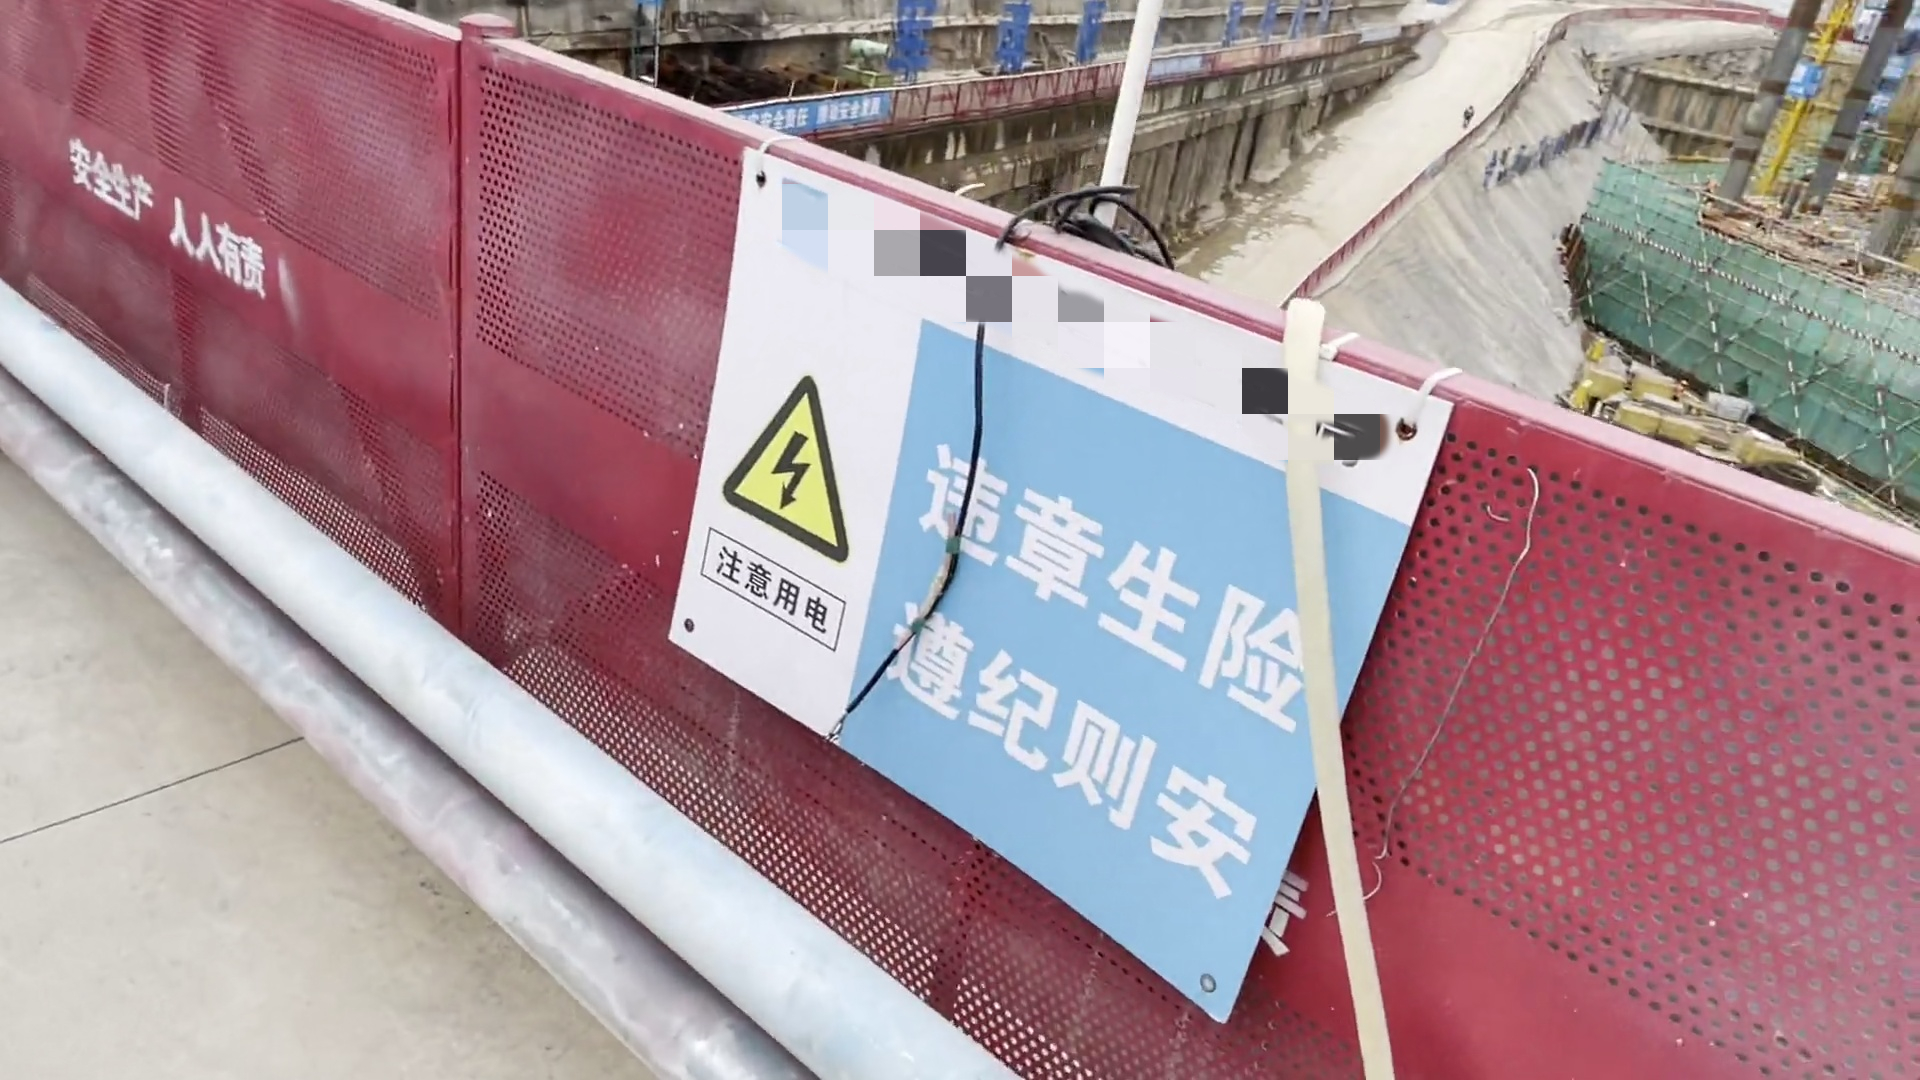fence: (187, 4, 650, 666)
slogan: (675, 137, 1481, 1015)
